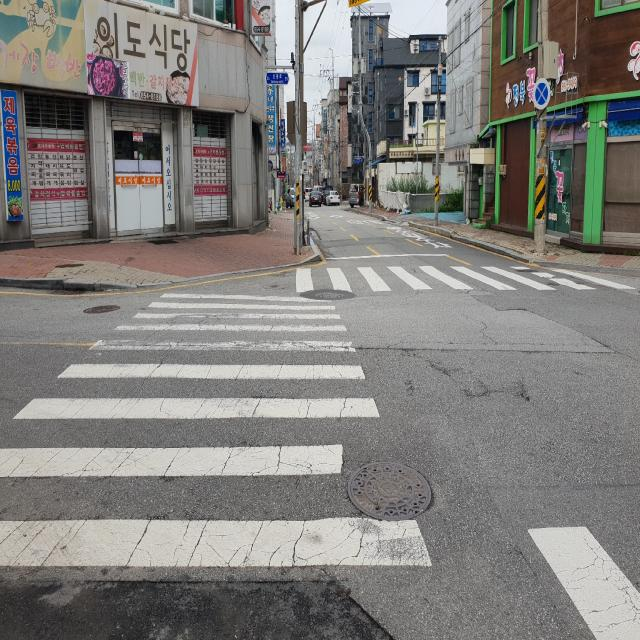횡단보도: (0, 289, 435, 571), (291, 250, 640, 301)
